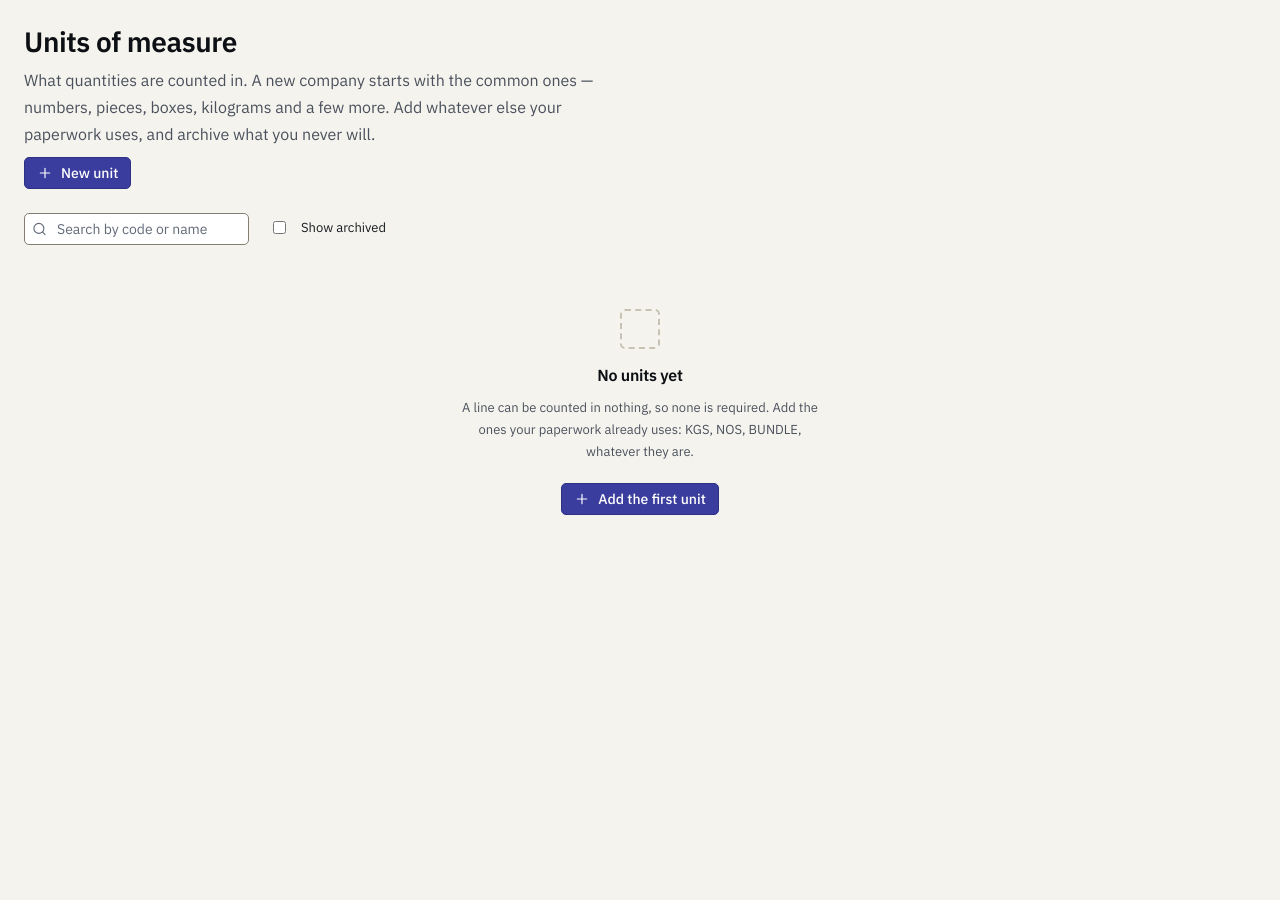
Test: adding › shows a refusal that names no field at the top of the dialog
The image size is (1280, 900).
expect the heading "No units yet" is shown: met, box [597,365,683,385]
Click the button "New unit": click(78, 173) [24,157,131,189]
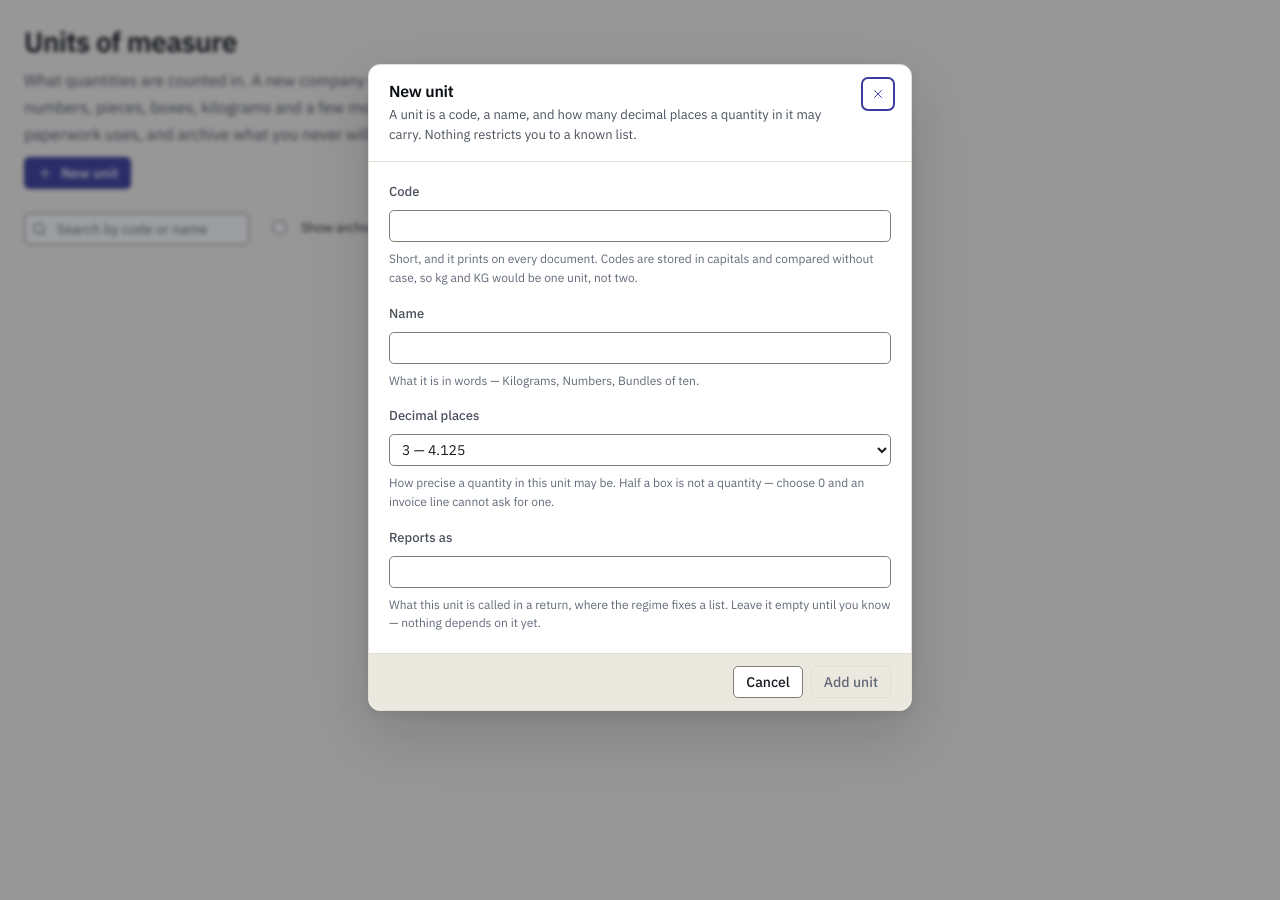
In the field labelled "Code": (640, 226) [389,210,891,242], type "KGS"
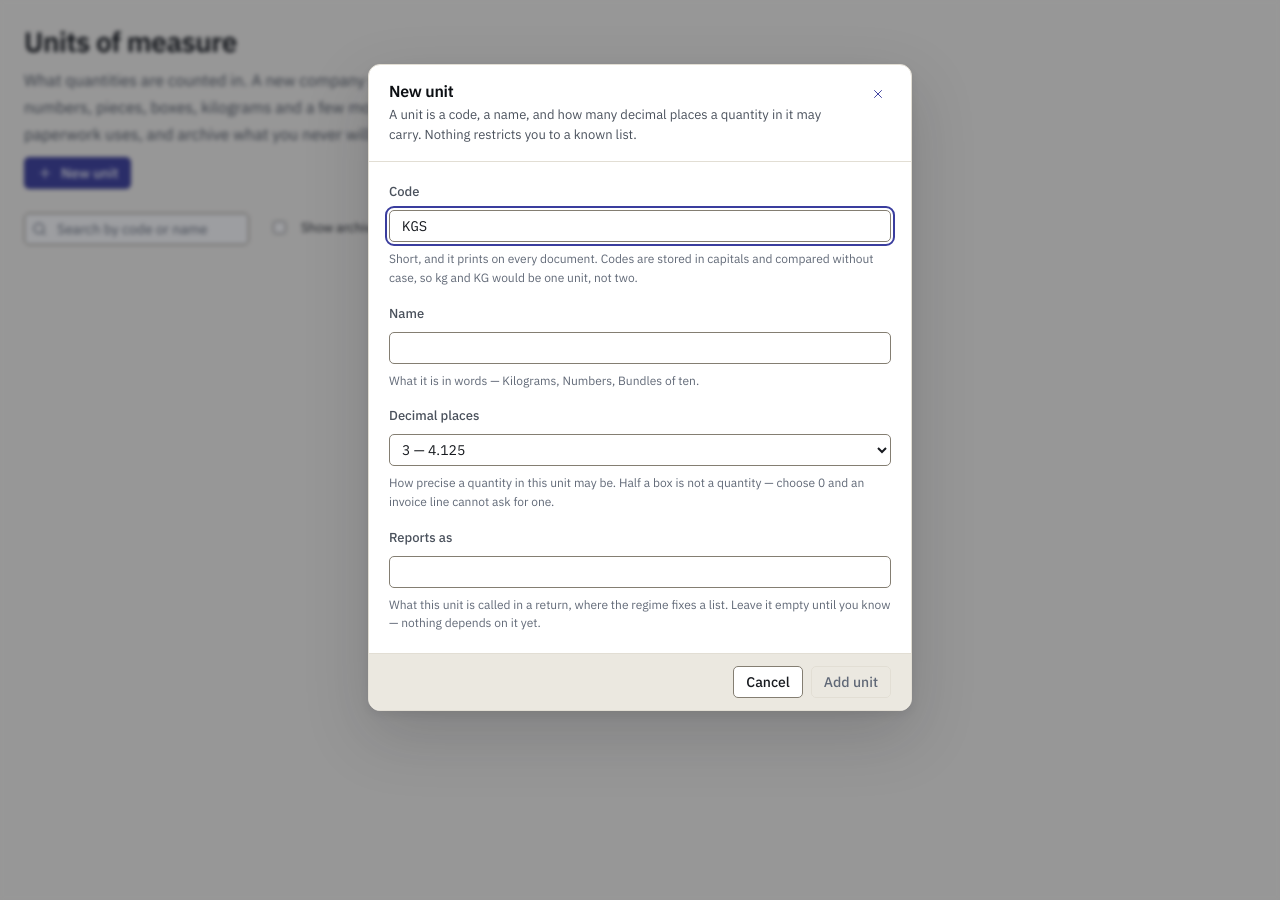
In the field labelled "Name": (640, 348) [389,332,891,364], type "Kilograms"
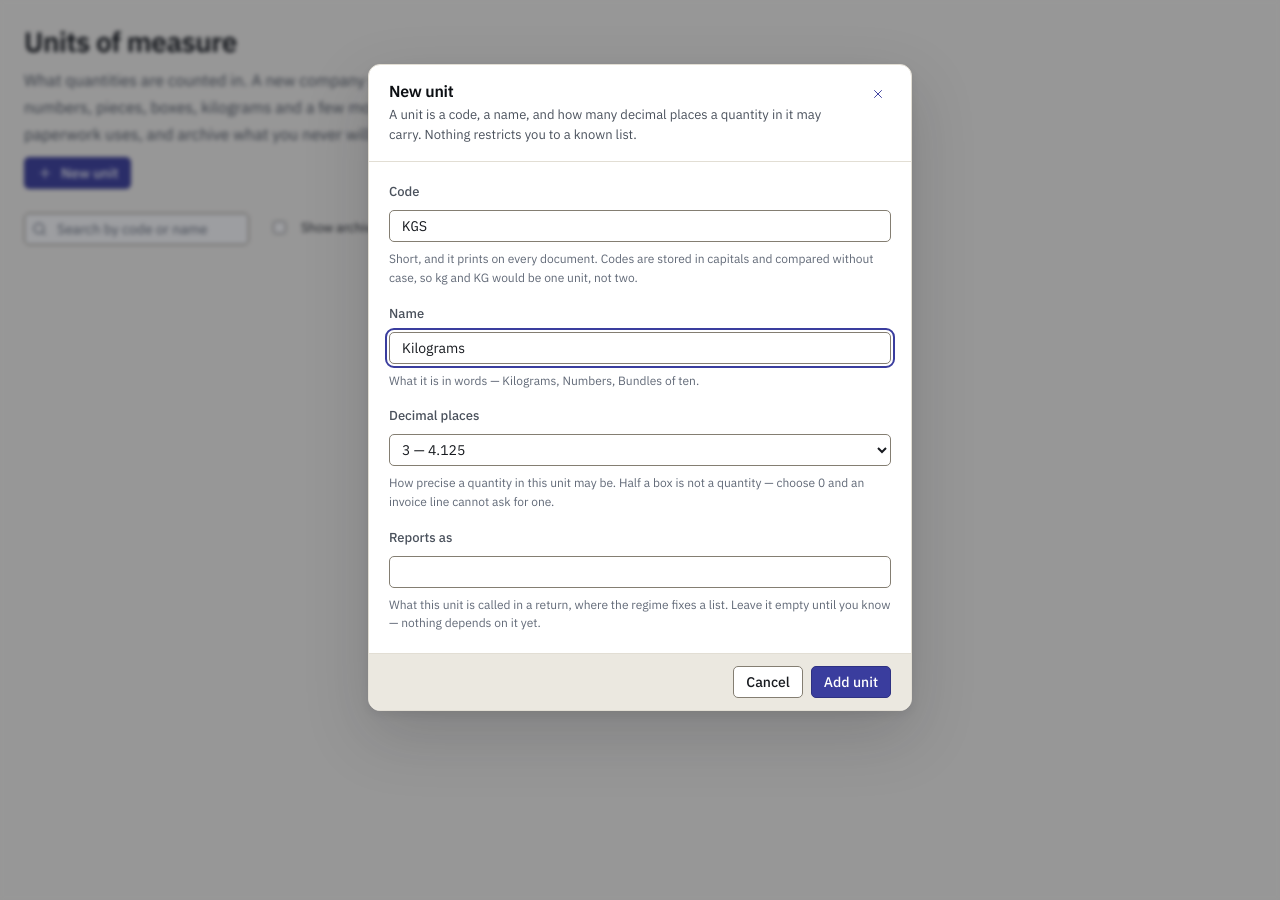
Click the button "Add unit": click(851, 682) [811,666,891,698]
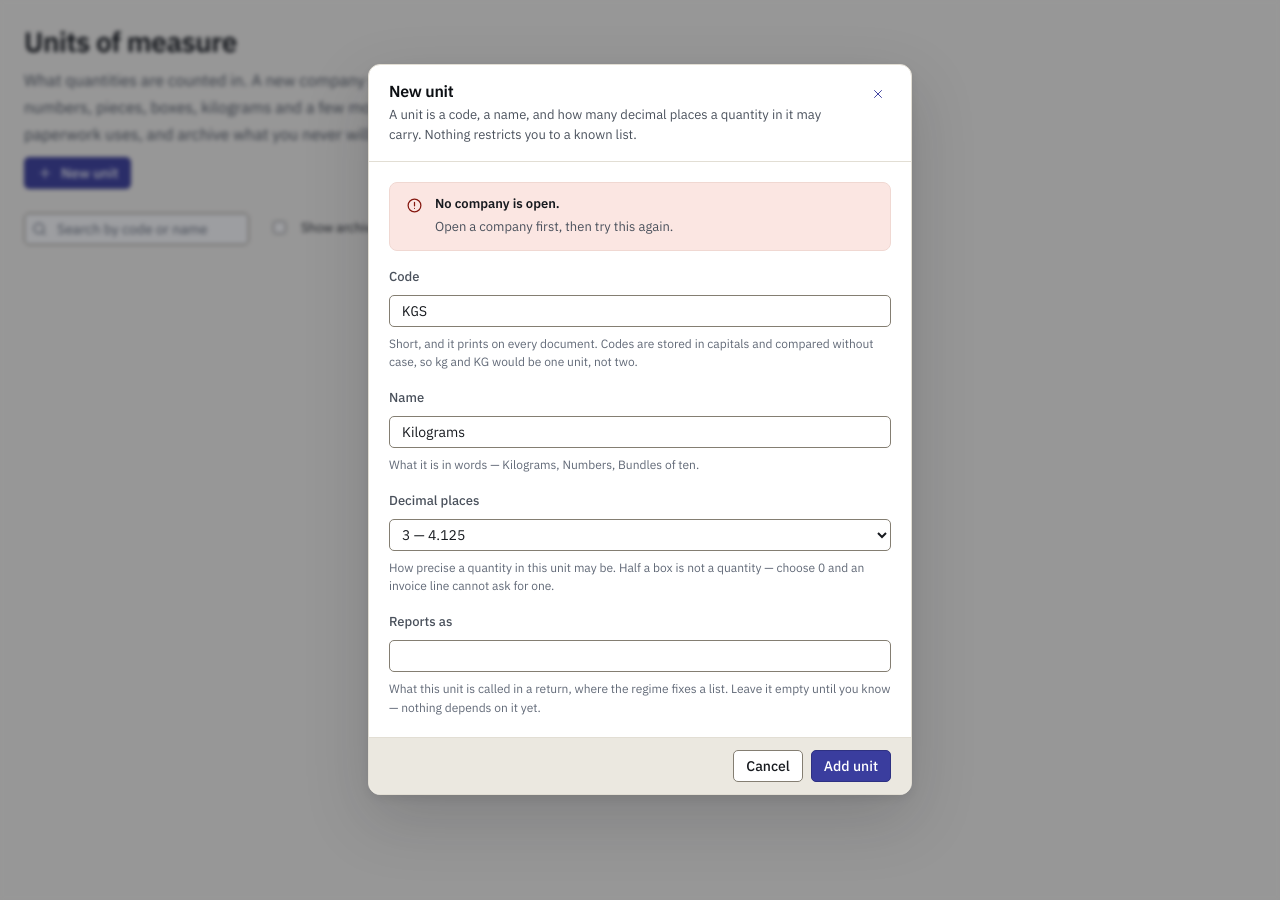
expect the text "No company is open." is shown: met, box [435,195,560,212]
